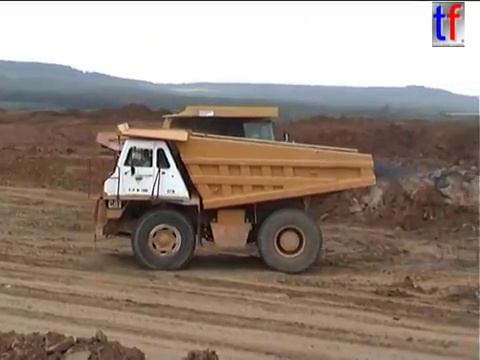truck: (93, 120, 378, 274), (94, 104, 294, 234)
